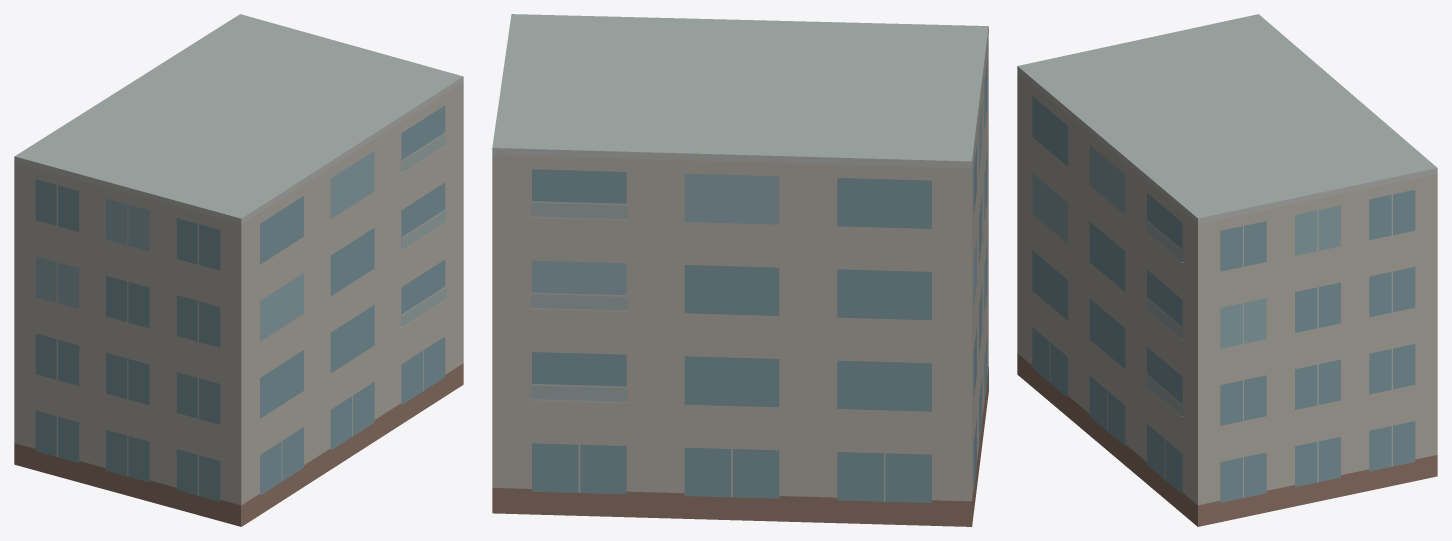
The model's file is survey-upis-32794482.glb.
3 renders of one model, left to right at view 1: azimuth 30°, elevation 25°; view 2: azimuth 150°, elevation 25°; view 3: azimuth 270°, elevation 25°, orthographic. The views are drawn at different scales.
Visible parts, largest first — view 1: survey-upis-32794482.tmp; view 2: survey-upis-32794482.tmp; view 3: survey-upis-32794482.tmp.
Boxes of the visible parts, <box> form: survey-upis-32794482.tmp: <box>14,14,463,526</box>; survey-upis-32794482.tmp: <box>492,14,988,526</box>; survey-upis-32794482.tmp: <box>1017,14,1437,526</box>.
Bounding box in the file's own units: 18.35 × 12.9 × 15.94.
